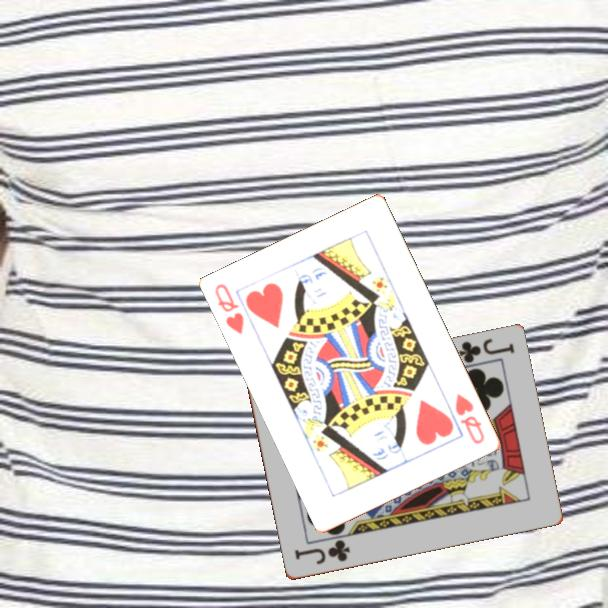c11: (290, 537, 353, 568), (455, 335, 517, 366)
h12: (452, 390, 488, 447), (211, 280, 247, 337)
